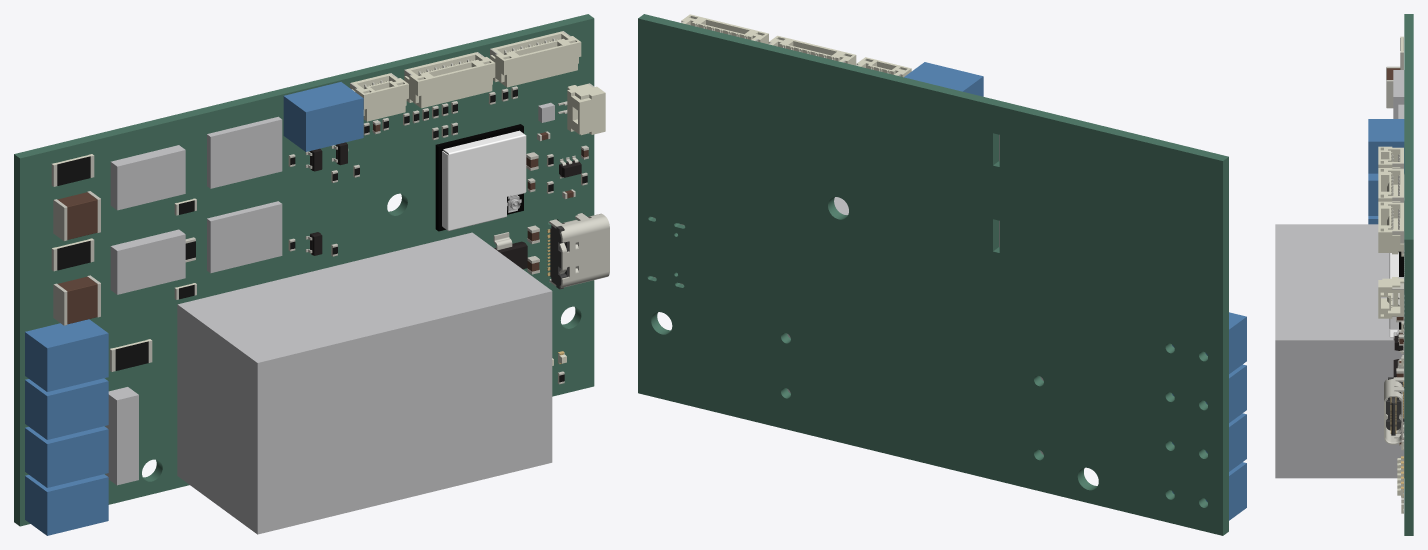
The model's file is board.glb.
3 views of the same model, side by side, from view 1: azimuth 30°, elevation 25°; view 2: azimuth 150°, elevation 25°; view 3: azimuth 270°, elevation 25° (orthographic). The views are drawn at different scales.
Visible parts, largest first — view 1: PS1, =>[0:1:1:34], =>[0:1:1:33]_b3d17e, J15, J2, U9, U8, J12, J13, J14, Q6, Q5 (+15 smaller); view 2: =>[0:1:1:34], J2, J15, =>[0:1:1:13]_5e1022, =>[0:1:1:13]_1_429f41, J14, J13, J12; view 3: PS1, =>[0:1:1:34], J2, =>[0:1:1:13]_1_429f41, =>[0:1:1:25]_077be4, =>[0:1:1:29]_2c1742, =>[0:1:1:13]_5e1022, =>[0:1:1:29]_332dad, =>[0:1:1:3]_dd6f02, Q5, J15, =>[0:1:1:33]_b3d17e (+2 smaller).
Part boxes in pixels (x1,y1,x2,y2): PS1: (177,232,552,534); =>[0:1:1:34]: (14,14,594,526); =>[0:1:1:33]_b3d17e: (442,130,526,231); J15: (25,319,108,391); J2: (283,82,363,151); U9: (207,201,282,273); U8: (207,116,282,188); J12: (25,474,108,535); J13: (25,426,108,487); J14: (25,378,108,439); Q6: (110,229,185,294); Q5: (110,145,185,210); =>[0:1:1:34]: (638,14,1228,535); J2: (904,62,983,96); J15: (1172,312,1246,373); =>[0:1:1:13]_5e1022: (768,35,856,65); =>[0:1:1:13]_1_429f41: (681,14,768,43); J14: (1172,364,1246,422); J13: (1172,413,1246,471); J12: (1172,462,1246,520); PS1: (1275,224,1404,478); =>[0:1:1:34]: (1404,14,1413,535); J2: (1368,119,1404,173); =>[0:1:1:13]_1_429f41: (1378,201,1403,254); =>[0:1:1:25]_077be4: (1378,277,1403,318); =>[0:1:1:29]_2c1742: (1384,377,1404,444); =>[0:1:1:13]_5e1022: (1378,168,1403,202); =>[0:1:1:29]_332dad: (1386,377,1404,435); =>[0:1:1:3]_dd6f02: (1378,146,1403,168); Q5: (1393,70,1404,118); J15: (1368,173,1378,215); =>[0:1:1:33]_b3d17e: (1389,252,1398,337).
Bounding box in the file's own units: 89.47 × 54.5 × 23.1.
